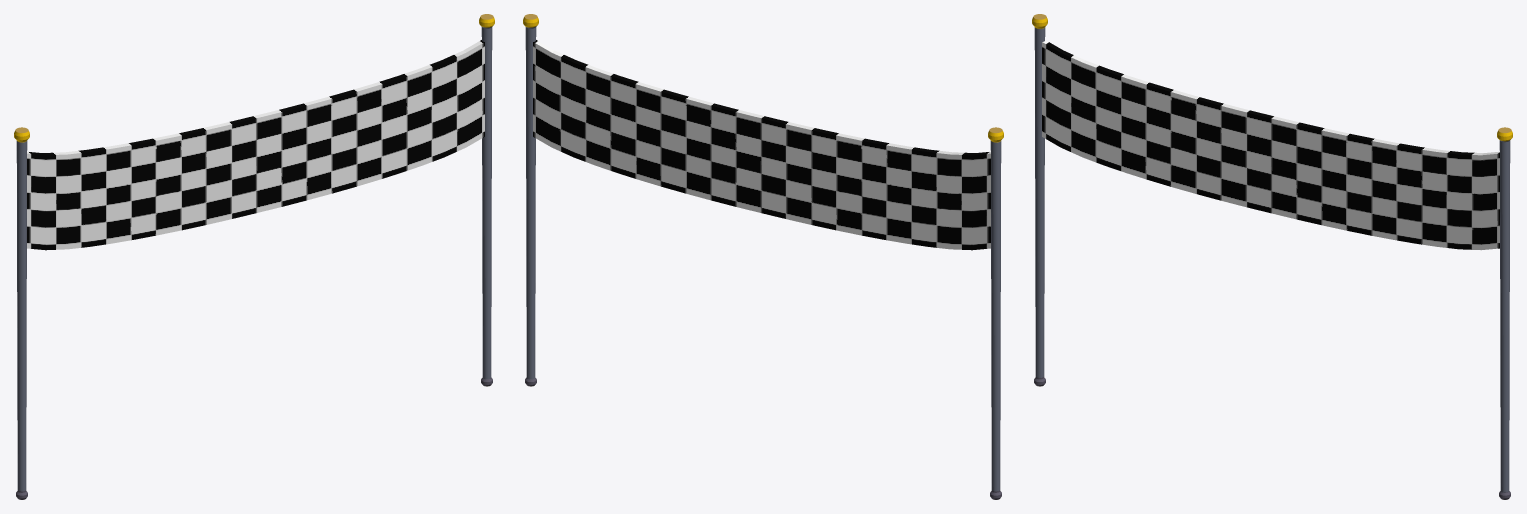
The model's file is FinishLine.fbx.
The picture shows the model from 3 angles, left to right: view 1: azimuth 30°, elevation 25°; view 2: azimuth 150°, elevation 25°; view 3: azimuth 330°, elevation 25°; orthographic projection.
Parts seen in each view (by area): view 1: Cube; view 2: Cube; view 3: Cube.
Boxes of the visible parts, left/top/right/bottom form: Cube: left=14, top=14, right=494, bottom=499; Cube: left=523, top=14, right=1003, bottom=499; Cube: left=1032, top=14, right=1512, bottom=499.
Bounding box in the file's own units: 763 × 561 × 21.75.
